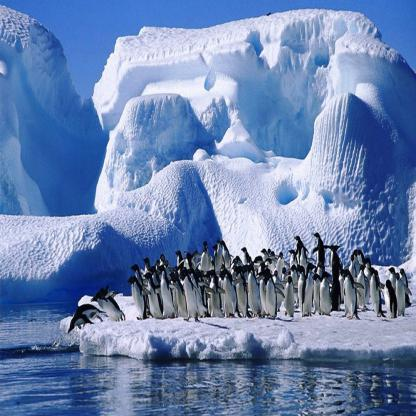Penguin: (87, 281, 126, 326), (336, 262, 360, 324), (238, 262, 262, 318), (365, 266, 389, 320), (217, 266, 242, 315), (128, 259, 148, 318), (62, 307, 92, 345), (179, 272, 201, 322), (260, 273, 282, 320), (391, 268, 412, 315), (155, 264, 175, 313), (141, 277, 162, 322), (68, 295, 98, 324), (211, 232, 229, 280), (126, 276, 143, 324), (284, 276, 302, 320), (311, 226, 326, 272), (195, 234, 212, 274)
